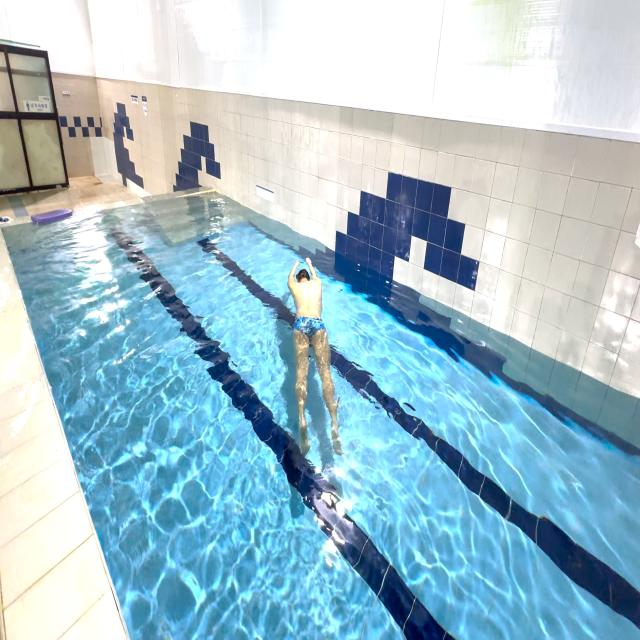Swimming: (276, 239, 350, 483)
